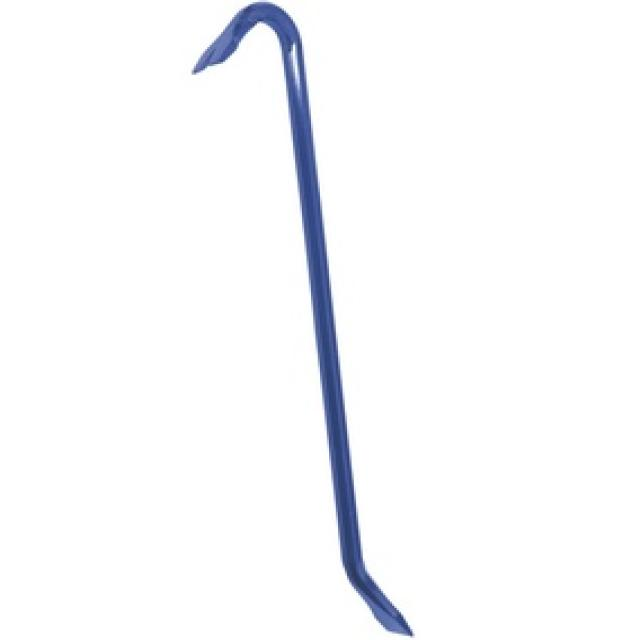Linggis: (192, 4, 411, 634)
